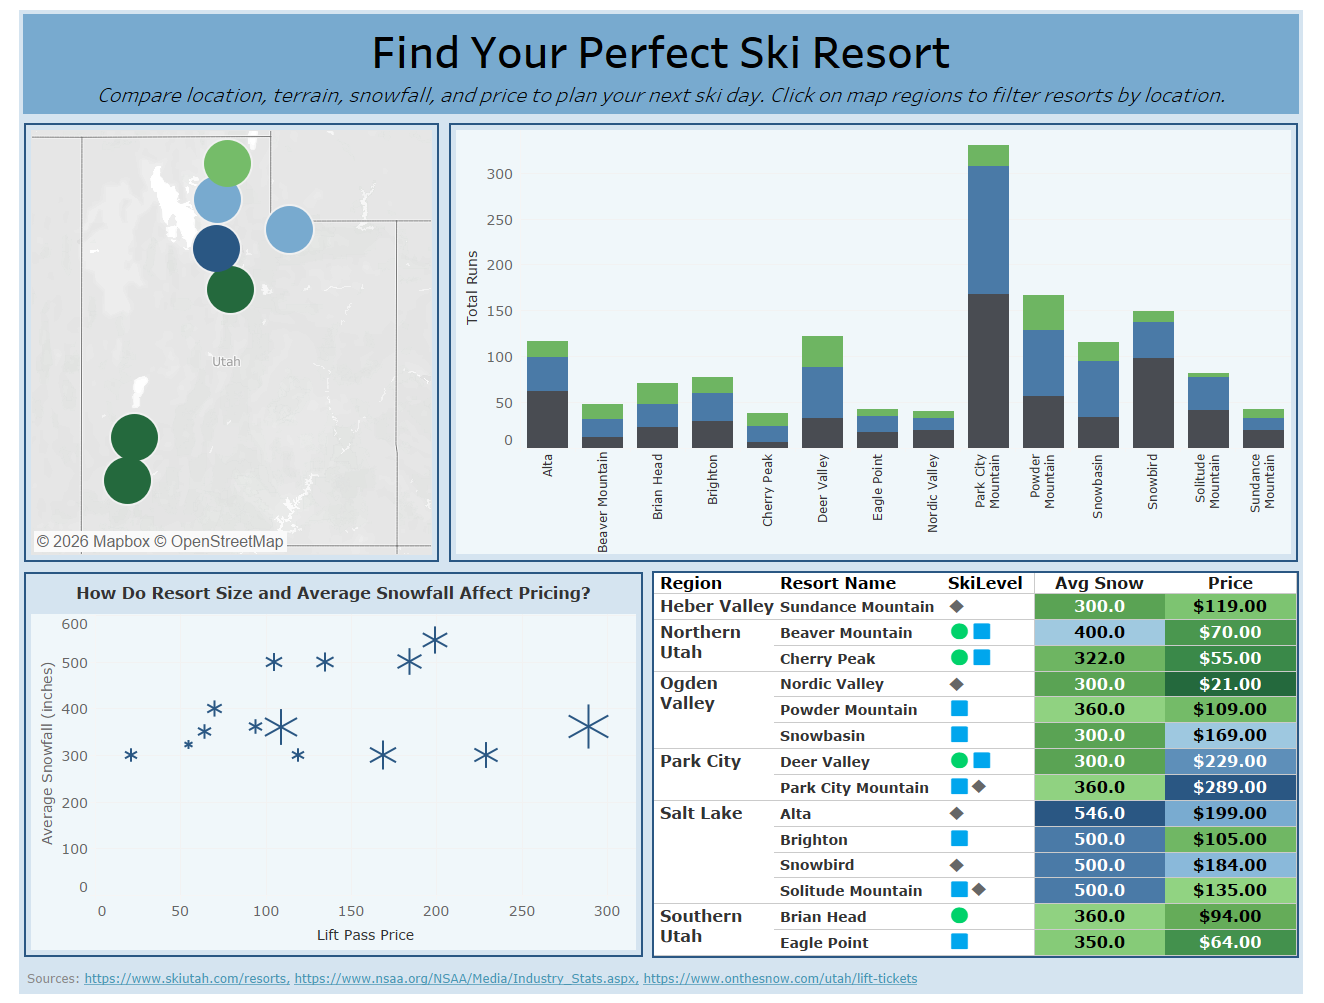

The page's visual inventory and layout, read from the dashboard file:
{"tool":"tableau","page":{"name":"Choosing a Resort","canvas":[1300,1000],"ordinal":0},"visuals":[{"type":"text","box":[8,8,1284,108.1]},{"type":"worksheet","title":"Ski Resorts Per Region","mark":"Shape","box":[8,116.1,425.1,449.3]},{"type":"worksheet","title":"Terrain","mark":"Automatic","cols":["Resort Name"],"box":[433.1,116.1,858.9,449.3]},{"type":"worksheet","title":"Avg Snowfall by Price","mark":"Automatic","rows":["AvgSnow(in)"],"cols":["Weekday Pass Price"],"box":[8,565.4,629,394.7]},{"type":"worksheet","title":"Highlight Table","mark":"Square","rows":["Region","Resort Name","Calculation_184084701146902528"],"box":[637,565.4,655,394.7]},{"type":"text","box":[8,960,1284,32]}]}

Visuals, with their boxes in screenshot pixels (x1, y1, x2, y2), scaled from the page's 1300x1000 canvas onto the 1324x1003 screenshot:
text: (8,8,1316,116)
"Ski Resorts Per Region" worksheet (Shape marks): (8,116,441,567)
"Terrain" worksheet: (441,116,1316,567)
"Avg Snowfall by Price" worksheet: (8,567,649,963)
"Highlight Table" worksheet (Square marks): (649,567,1316,963)
text: (8,963,1316,995)
